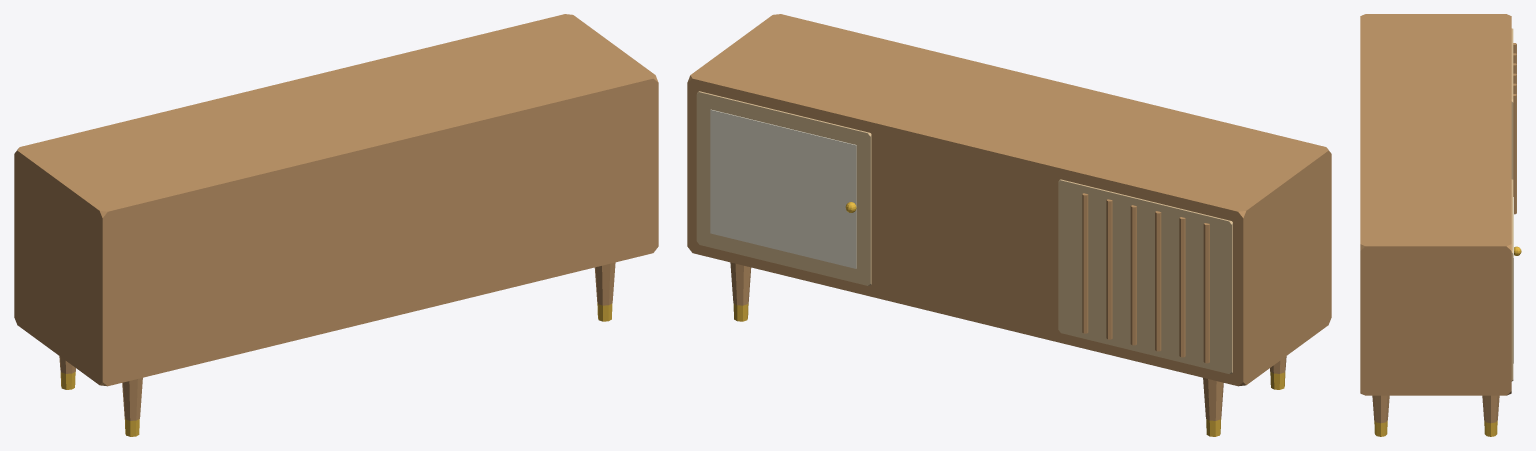
File: Furniture_LivingCabinet.glb
3 views of the same model, side by side, from view 1: azimuth 30°, elevation 25°; view 2: azimuth 150°, elevation 25°; view 3: azimuth 270°, elevation 25° (orthographic). The views are drawn at different scales.
Visible parts, largest first — view 1: Furniture_LivingCabinet; view 2: Furniture_LivingCabinet; view 3: Furniture_LivingCabinet.
Part boxes in pixels (box(x1,y1,x2,y2)): Furniture_LivingCabinet: box(14, 14, 658, 436); Furniture_LivingCabinet: box(687, 14, 1331, 436); Furniture_LivingCabinet: box(1360, 14, 1521, 436).
Size of the model in its own units: 1.6 by 0.66 by 0.469.
